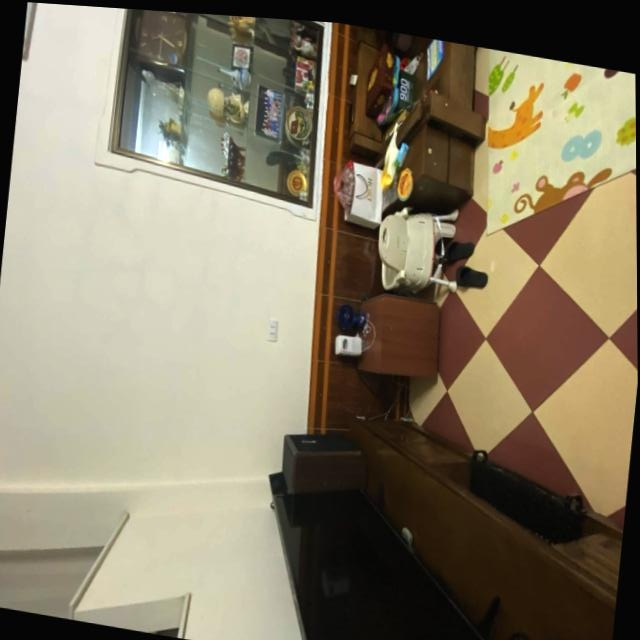outlet: (266, 320, 279, 344)
